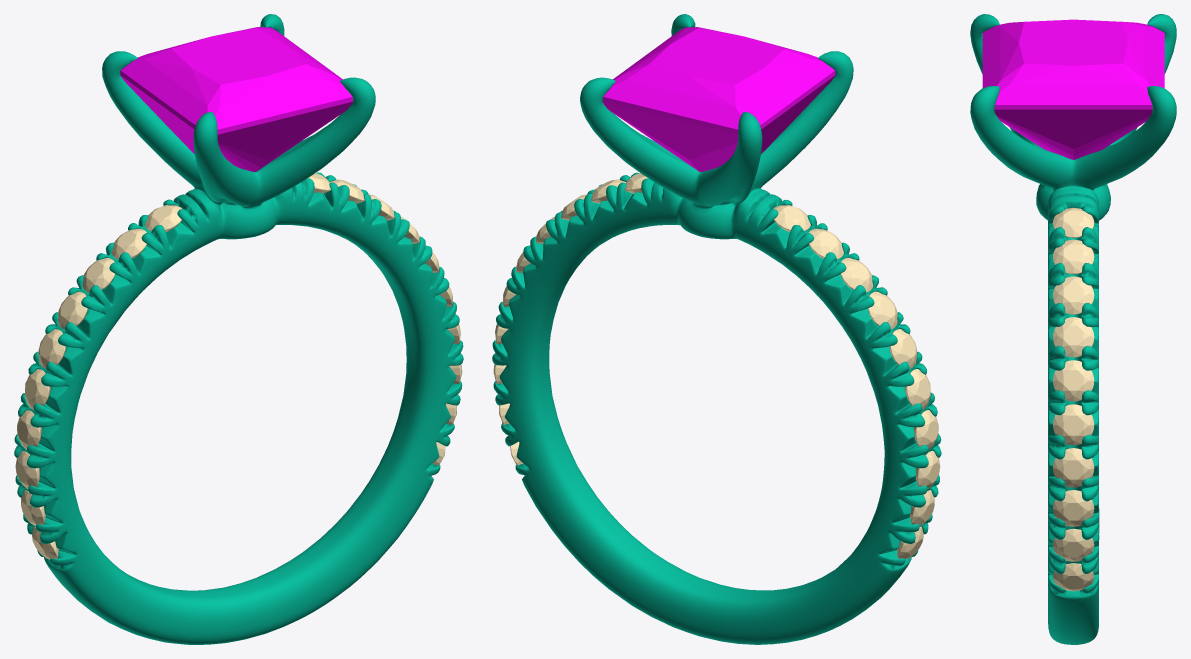
Rendered from BE1D7162_PR_200ct_RENDER.glb.
The picture shows the model from 3 angles, left to right: view 1: azimuth 30°, elevation 25°; view 2: azimuth 150°, elevation 25°; view 3: azimuth 270°, elevation 25°; orthographic projection.
Parts seen in each view (by area): view 1: Metal 01, CS_Diamond_Princess, Diamond_Round_Gem_SH.017, Diamond_Round_Gem_SH.016, Diamond_Round_Gem_SH.018, Diamond_Round_Gem_SH.015, Diamond_Round_Gem_SH.014, Diamond_Round_Gem_SH.019, Diamond_Round_Gem_SH.013; view 2: Metal 01, CS_Diamond_Princess, Diamond_Round_Gem_SH.016, Diamond_Round_Gem_SH.017, Diamond_Round_Gem_SH.015, Diamond_Round_Gem_SH.018, Diamond_Round_Gem_SH.014, Diamond_Round_Gem_SH.019, Diamond_Round_Gem_SH.013; view 3: Metal 01, CS_Diamond_Princess, Diamond_Round_Gem_SH.005, Diamond_Round_Gem_SH.004, Diamond_Round_Gem_SH.006, Diamond_Round_Gem_SH.003, Diamond_Round_Gem_SH.007, Diamond_Round_Gem_SH.002, Diamond_Round_Gem_SH.008, Diamond_Round_Gem_SH.001, Diamond_Round_Gem_SH.009, Diamond_Round_Gem_SH.
Part boxes in pixels (bbox=[...]): Metal 01: bbox=[14, 14, 463, 644]; CS_Diamond_Princess: bbox=[120, 27, 353, 171]; Diamond_Round_Gem_SH.017: bbox=[82, 257, 114, 292]; Diamond_Round_Gem_SH.016: bbox=[58, 291, 87, 329]; Diamond_Round_Gem_SH.018: bbox=[111, 228, 146, 259]; Diamond_Round_Gem_SH.015: bbox=[38, 329, 65, 368]; Diamond_Round_Gem_SH.014: bbox=[24, 369, 50, 409]; Diamond_Round_Gem_SH.019: bbox=[144, 205, 181, 231]; Diamond_Round_Gem_SH.013: bbox=[17, 410, 41, 449]; Metal 01: bbox=[492, 14, 941, 644]; CS_Diamond_Princess: bbox=[602, 27, 835, 171]; Diamond_Round_Gem_SH.016: bbox=[868, 291, 897, 329]; Diamond_Round_Gem_SH.017: bbox=[840, 257, 873, 292]; Diamond_Round_Gem_SH.015: bbox=[889, 329, 917, 368]; Diamond_Round_Gem_SH.018: bbox=[808, 228, 843, 259]; Diamond_Round_Gem_SH.014: bbox=[905, 369, 930, 409]; Diamond_Round_Gem_SH.019: bbox=[773, 205, 810, 231]; Diamond_Round_Gem_SH.013: bbox=[914, 410, 938, 449]; Metal 01: bbox=[970, 14, 1176, 644]; CS_Diamond_Princess: bbox=[982, 19, 1164, 159]; Diamond_Round_Gem_SH.005: bbox=[1053, 360, 1094, 401]; Diamond_Round_Gem_SH.004: bbox=[1053, 404, 1094, 445]; Diamond_Round_Gem_SH.006: bbox=[1053, 317, 1094, 357]; Diamond_Round_Gem_SH.003: bbox=[1053, 448, 1094, 487]; Diamond_Round_Gem_SH.007: bbox=[1053, 276, 1094, 314]; Diamond_Round_Gem_SH.002: bbox=[1053, 490, 1094, 526]; Diamond_Round_Gem_SH.008: bbox=[1053, 239, 1094, 274]; Diamond_Round_Gem_SH.001: bbox=[1053, 528, 1094, 561]; Diamond_Round_Gem_SH.009: bbox=[1053, 207, 1094, 237]; Diamond_Round_Gem_SH: bbox=[1053, 563, 1094, 591].
Size of the model in its own units: 20.75 by 26.33 by 8.52.
